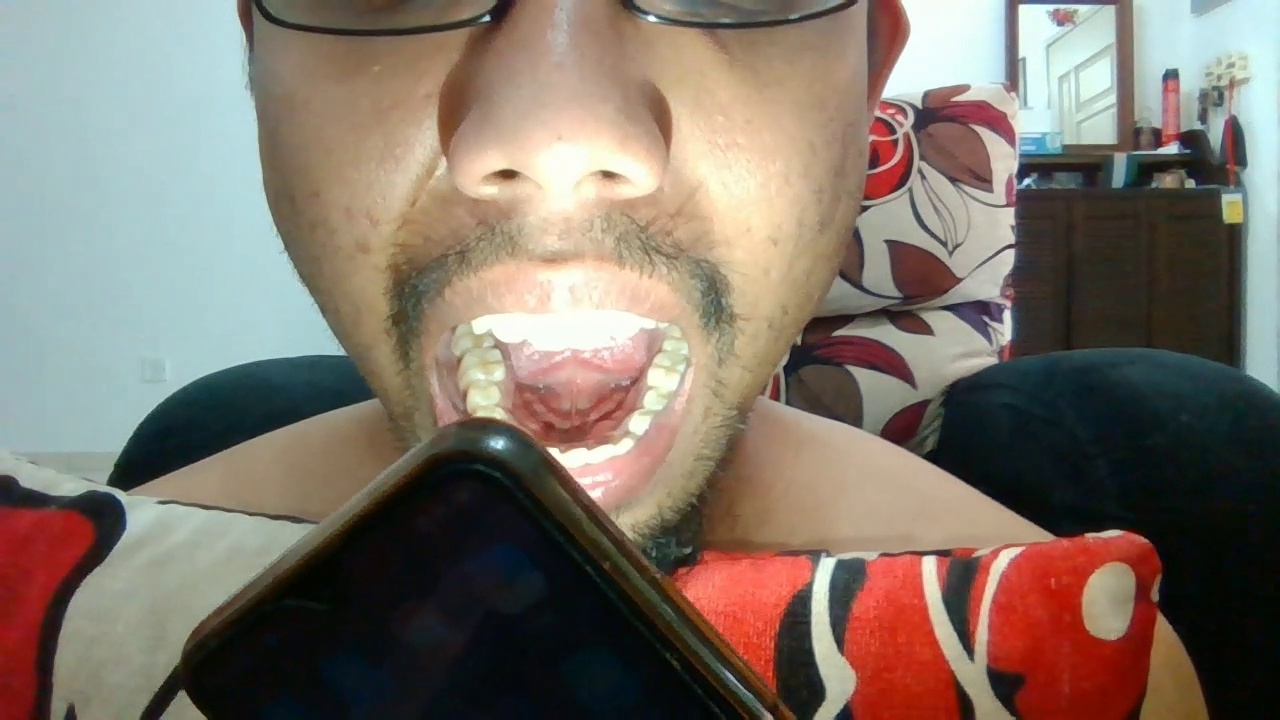1st Molar: (459, 349, 507, 382), (647, 353, 688, 389)
1st Premolar: (628, 409, 656, 435)
2nd Molar: (451, 323, 495, 352), (661, 335, 690, 353)
2nd Premolar: (466, 381, 502, 408), (642, 388, 672, 410)
Canine: (470, 314, 492, 335), (615, 437, 636, 456), (641, 314, 658, 330)
Central Incisor: (568, 313, 612, 351), (525, 313, 568, 351), (560, 447, 589, 468)
Lateral Incisor: (492, 313, 525, 344), (613, 310, 642, 341), (589, 445, 614, 467)
